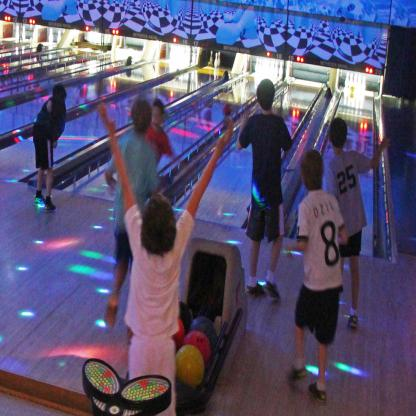Ball: (172, 300, 220, 393)
